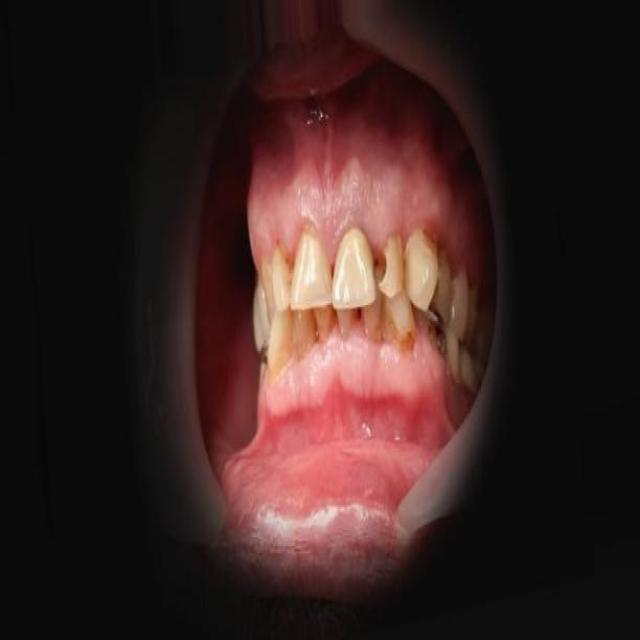caries: (426, 306, 449, 353), (368, 242, 390, 290), (416, 222, 438, 256), (400, 324, 420, 359)
